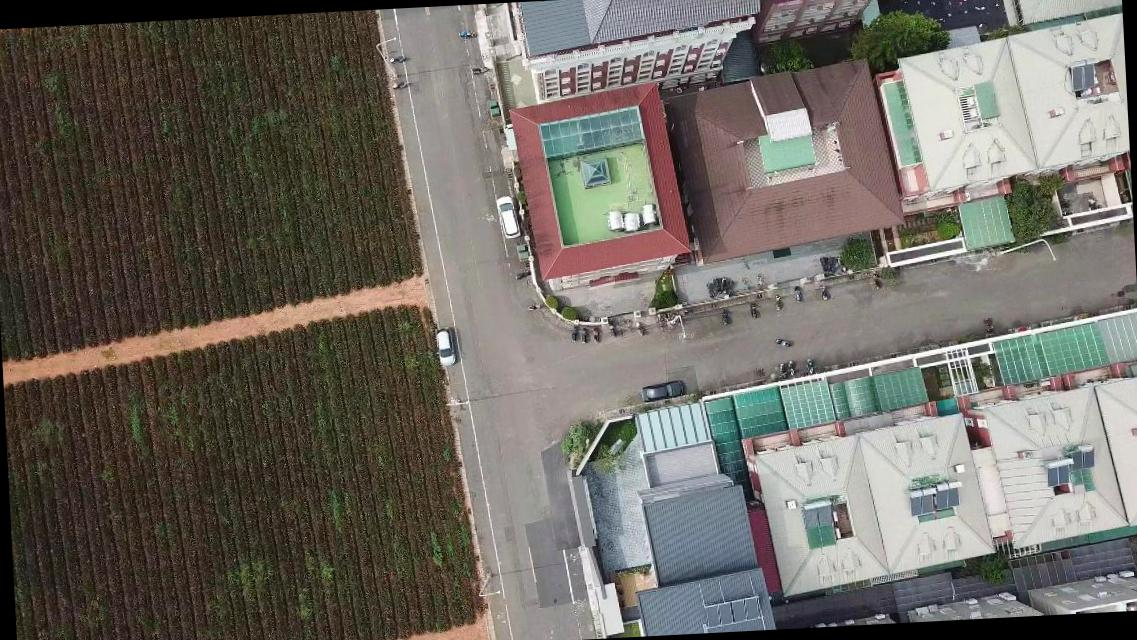vehicle: (638, 379, 686, 405), (495, 194, 518, 240), (433, 326, 454, 368)
